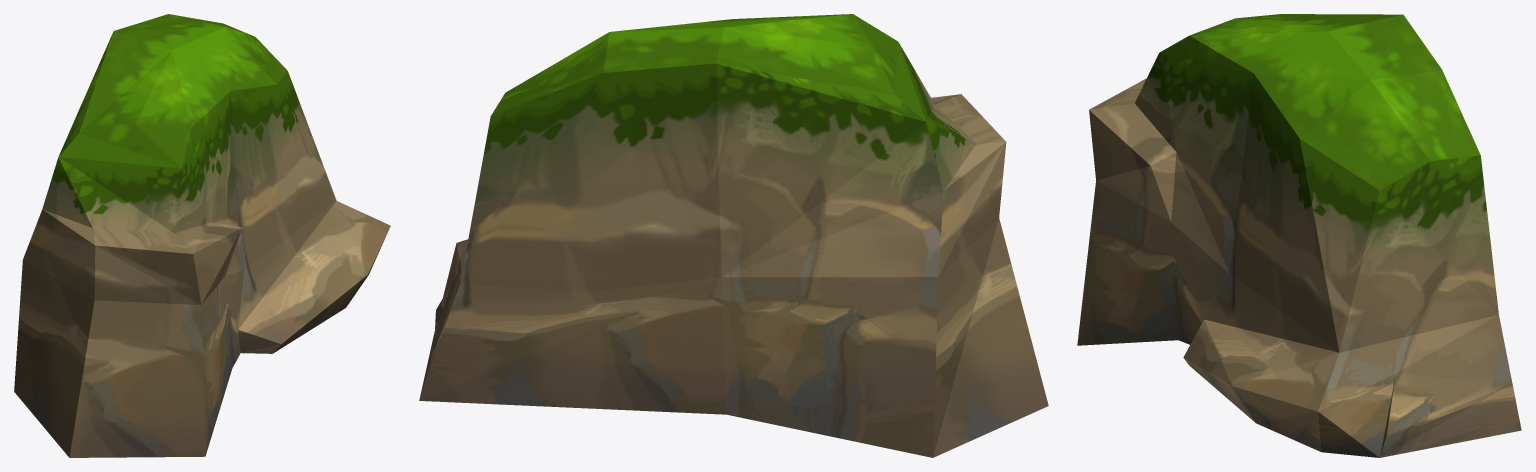
File: shitou03.FBX
3 renders of one model, left to right at view 1: azimuth 30°, elevation 25°; view 2: azimuth 150°, elevation 25°; view 3: azimuth 270°, elevation 25°, orthographic. The views are drawn at different scales.
Parts seen in each view (by area): view 1: Object009, Object012; view 2: Object009, Object012; view 3: Object009, Object012.
Part boxes in pixels (left/top/right/bottom): Object009: left=14, top=33, right=390, bottom=457; Object012: left=59, top=14, right=287, bottom=168; Object009: left=419, top=42, right=1048, bottom=457; Object012: left=491, top=14, right=925, bottom=121; Object009: left=1077, top=52, right=1521, bottom=457; Object012: left=1160, top=14, right=1480, bottom=190.
Bounding box in the file's own units: 121 × 91.67 × 103.
